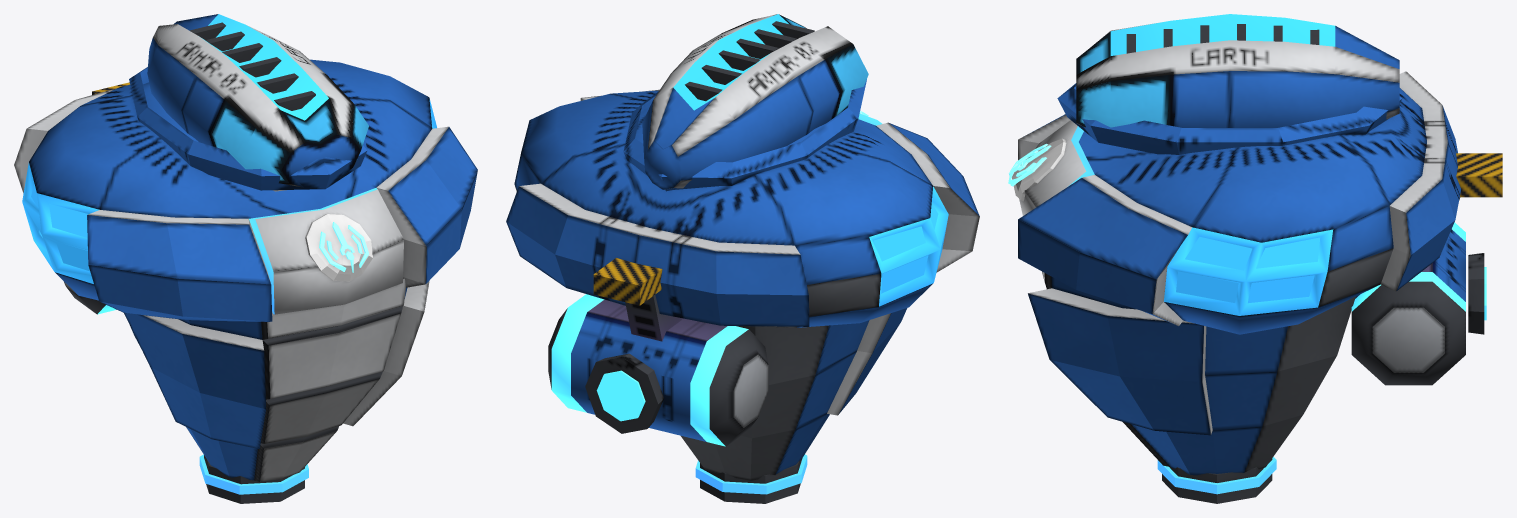
File: ArmorTorsoX.glb
3 renders of one model, left to right at view 1: azimuth 30°, elevation 25°; view 2: azimuth 150°, elevation 25°; view 3: azimuth 270°, elevation 25°, orthographic. The views are drawn at different scales.
Parts seen in each view (by area): view 1: ArmorTorsoX_Body, ArmorTorsoX_Head; view 2: ArmorTorsoX_Body, ArmorTorsoX_Head; view 3: ArmorTorsoX_Body, ArmorTorsoX_Head.
Part boxes in pixels (x1=…): ArmorTorsoX_Body: x1=14, y1=59, x2=477, y2=503; ArmorTorsoX_Head: x1=147, y1=14, x2=368, y2=191; ArmorTorsoX_Body: x1=506, y1=79, x2=979, y2=503; ArmorTorsoX_Head: x1=642, y1=14, x2=868, y2=189; ArmorTorsoX_Body: x1=1008, y1=71, x2=1502, y2=503; ArmorTorsoX_Head: x1=1076, y1=14, x2=1399, y2=127.
Size of the model in its own units: 10.54 by 10.92 by 10.79.
Materials: 12 (8 with a texture image).
